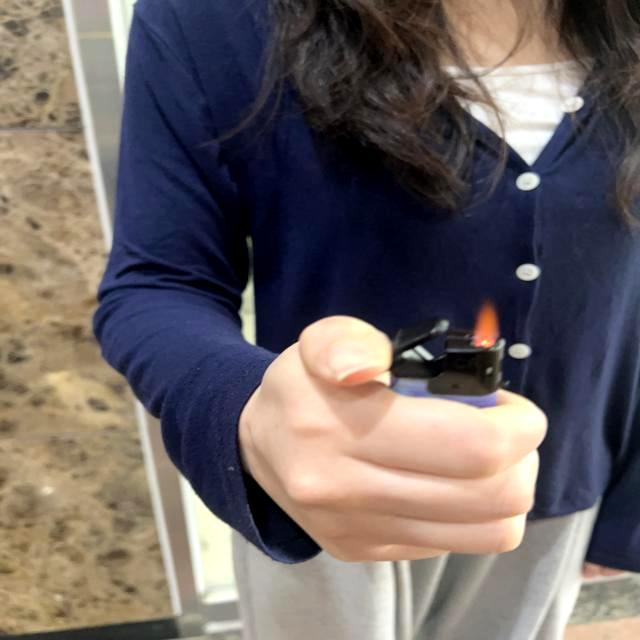fire: (473, 302, 502, 350)
